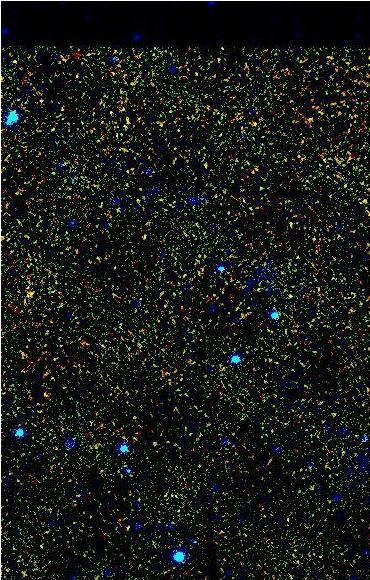star: (15, 280, 45, 310)
